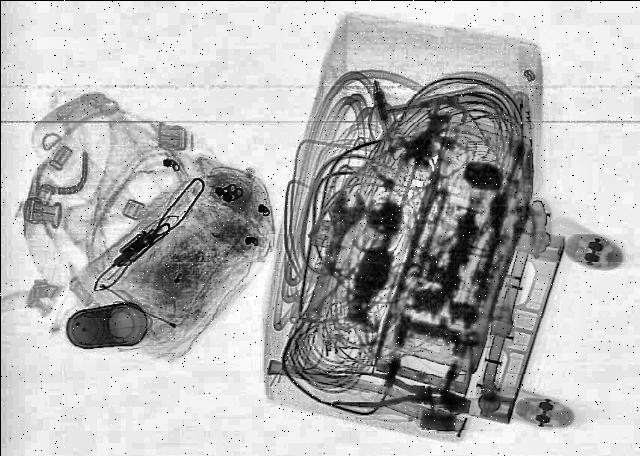Pliers: (324, 367, 444, 414)
Wrench: (293, 187, 371, 320)
